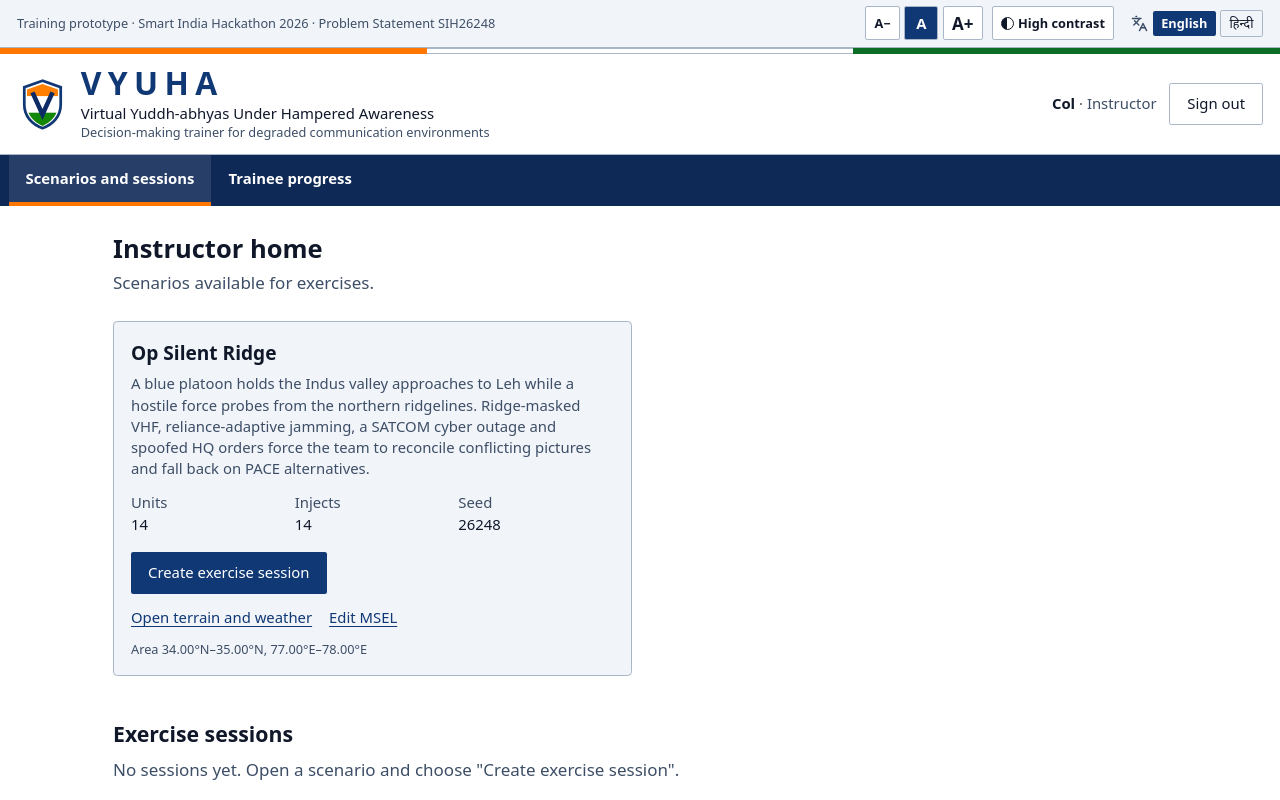
InstructorHome › shows why creating a session failed and lets the instructor try again
Click the button "Create exercise session": (229, 573) [131, 552, 326, 594]
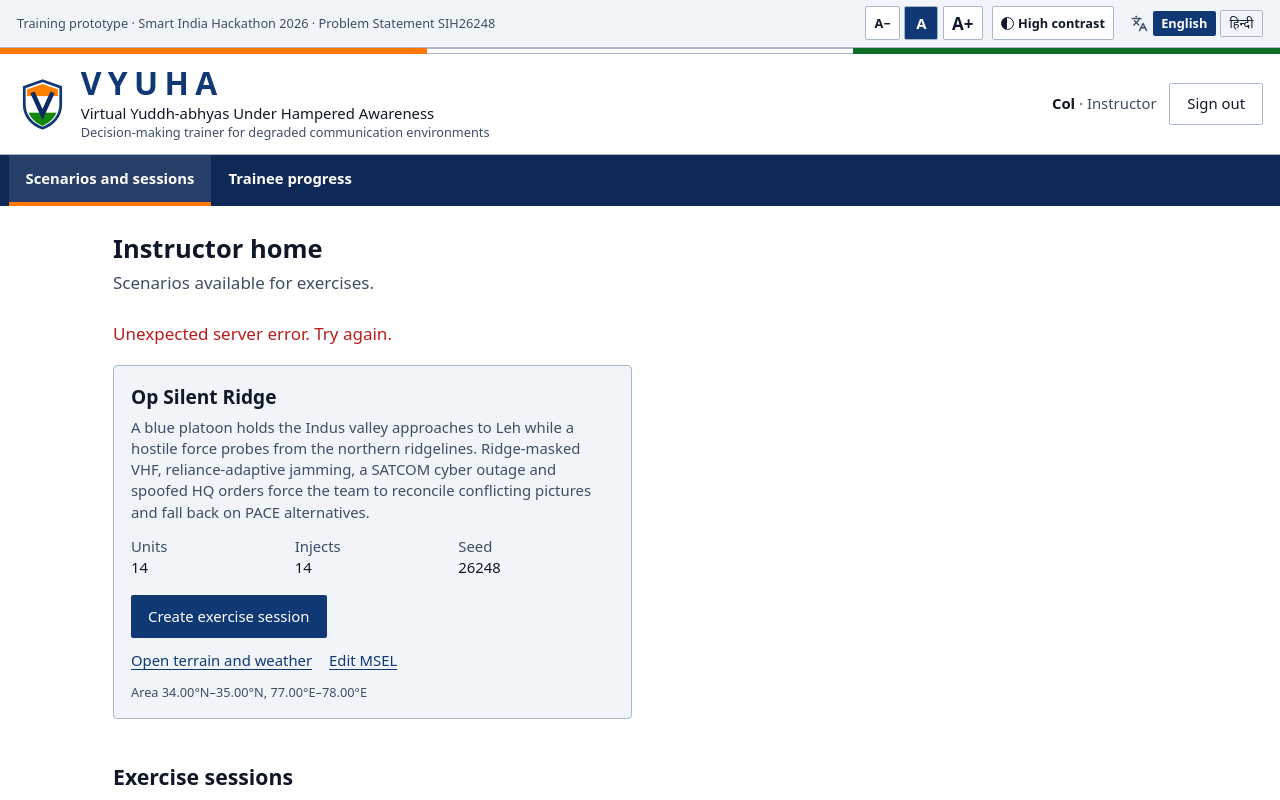
Expected: the button "Create exercise session" is enabled, [131, 595, 326, 638]
Now the message "Unexpected server error. Try again." is shown, box [113, 322, 392, 345]
